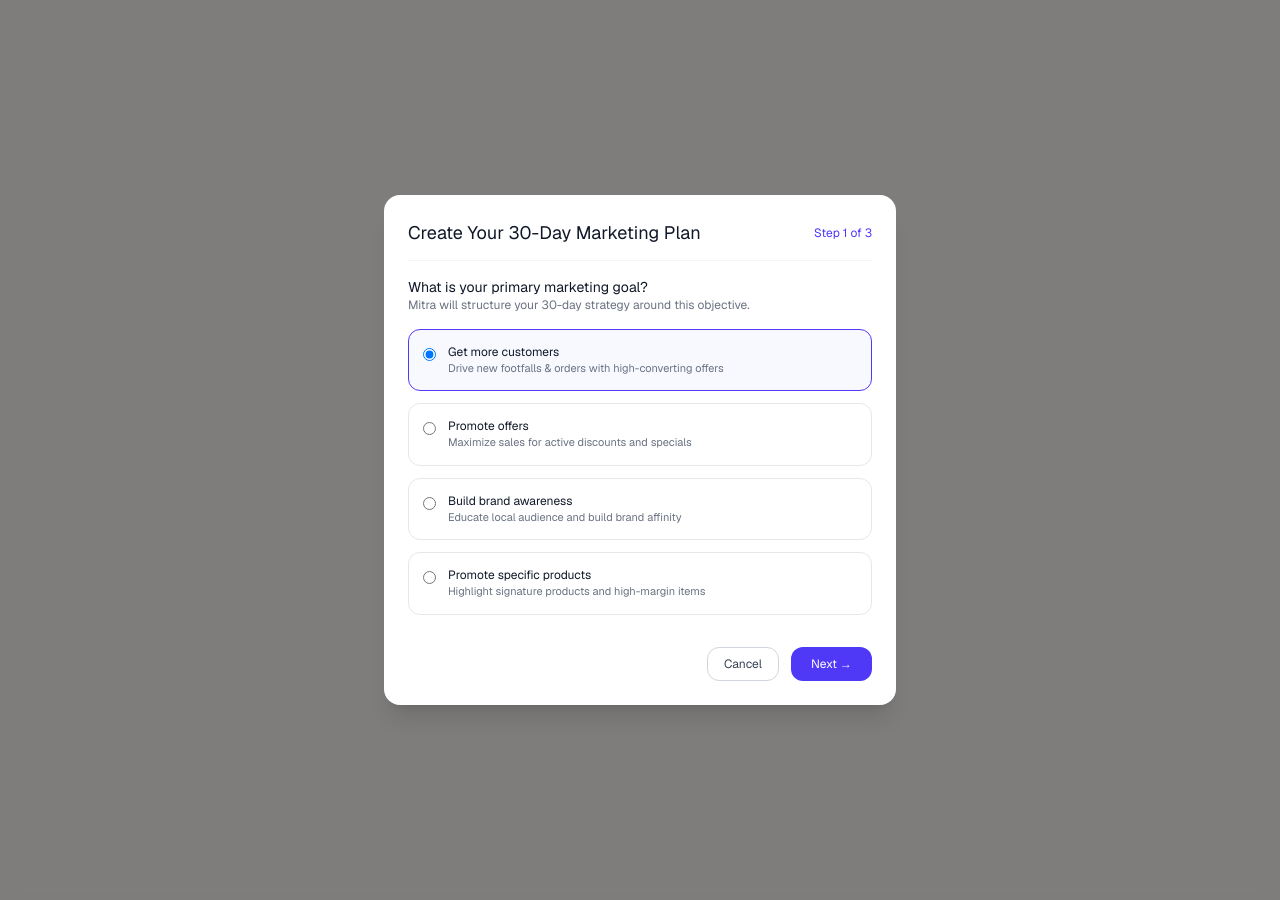
Scenario: PlanWizardModal › renders Step 1 goal selection and navigates to Step 2 frequency selection
Expected: the heading "Create Your 30-Day Marketing Plan" is shown, [408,219,701,248]
Expected: the heading "What is your primary marketing goal?" is shown, [408,278,648,296]
Click the button "Next →" at {"x": 832, "y": 664}, box [791,647,872,681]
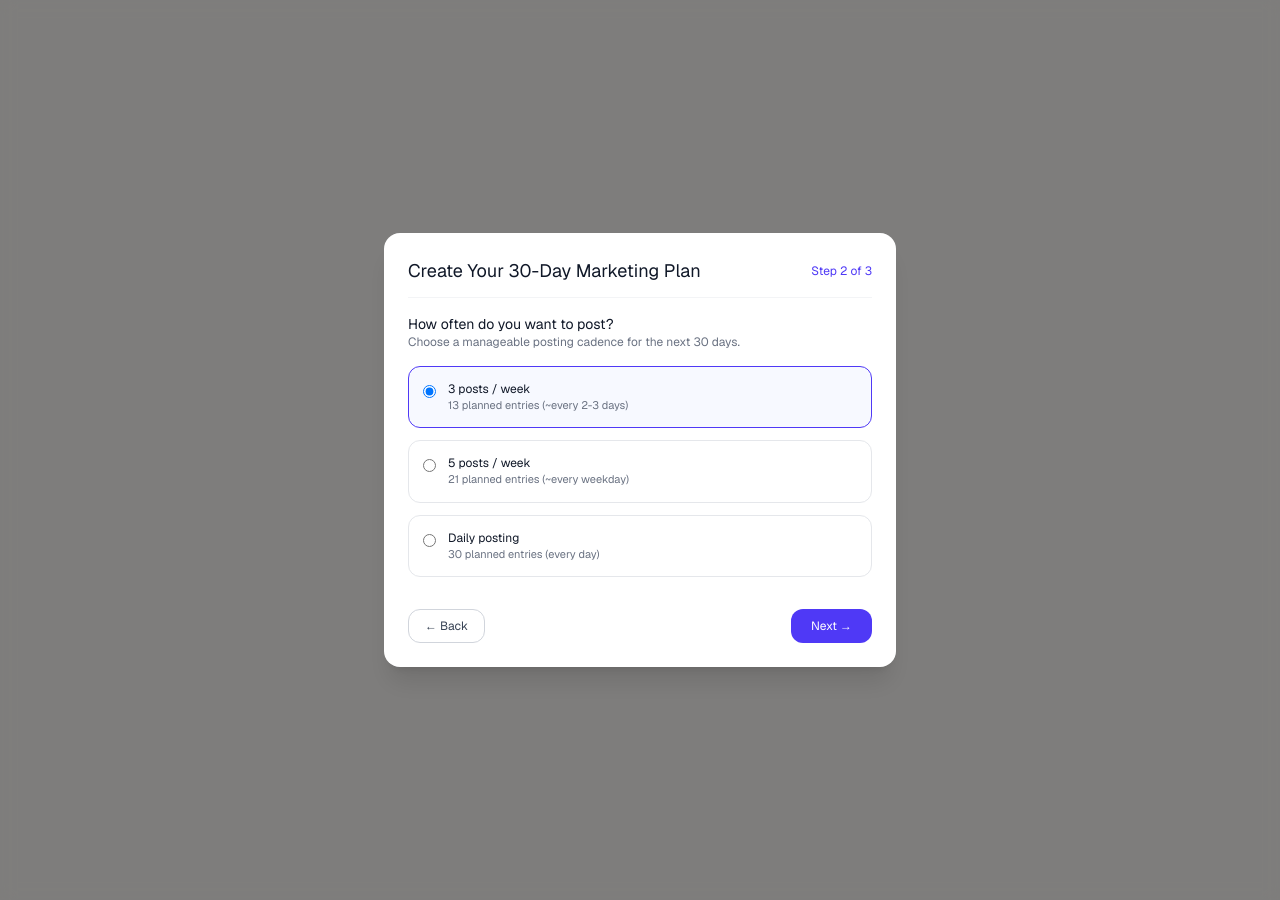
Expected: the heading "How often do you want to post?" is shown, [408,315,614,333]
Expected: the text "3 posts / week" is shown, [448,381,530,397]
Expected: the text "5 posts / week" is shown, [448,455,530,471]
